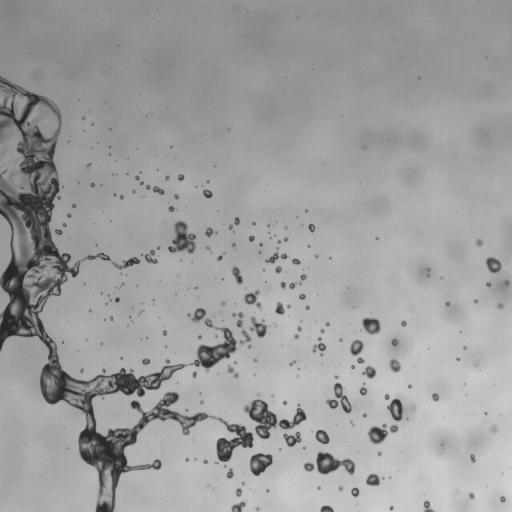droplet: (189, 312, 251, 372), (243, 398, 306, 439), (168, 220, 196, 253), (326, 382, 351, 413), (367, 423, 398, 444), (250, 453, 272, 475), (249, 316, 268, 337), (387, 398, 402, 421), (244, 290, 261, 309), (362, 317, 380, 334), (485, 257, 501, 273), (312, 337, 326, 355), (283, 432, 301, 446), (350, 339, 363, 356), (315, 429, 329, 444), (191, 308, 205, 322), (366, 473, 381, 486), (144, 249, 157, 263), (275, 302, 290, 314), (363, 365, 376, 378), (389, 358, 401, 372), (231, 500, 246, 511), (423, 500, 434, 511), (205, 227, 215, 237), (359, 383, 366, 395), (203, 189, 212, 198), (351, 487, 359, 497), (226, 468, 233, 478), (292, 258, 300, 265), (432, 393, 439, 401), (490, 425, 497, 433), (236, 488, 242, 497), (217, 253, 224, 260), (308, 224, 314, 232), (476, 238, 482, 246), (178, 174, 184, 181), (55, 229, 62, 235), (275, 266, 281, 273), (497, 302, 503, 309), (357, 357, 364, 363), (142, 358, 149, 364), (470, 454, 475, 462), (280, 282, 286, 288), (391, 339, 397, 345), (168, 206, 175, 211), (234, 217, 239, 224), (469, 492, 474, 499), (299, 294, 305, 299), (401, 320, 406, 326), (410, 403, 415, 409), (500, 496, 505, 502), (249, 236, 254, 241), (229, 224, 233, 230), (192, 371, 196, 377), (165, 175, 169, 180), (174, 194, 178, 199), (206, 246, 210, 251), (505, 280, 509, 285), (115, 297, 119, 302), (445, 301, 449, 306), (297, 326, 301, 331), (162, 330, 166, 335), (294, 334, 298, 339), (385, 394, 389, 399), (338, 486, 343, 490), (67, 213, 71, 217), (486, 282, 490, 286), (221, 301, 225, 305), (325, 322, 329, 326), (320, 329, 324, 333), (197, 335, 201, 339), (253, 358, 257, 362), (351, 365, 355, 369), (334, 375, 338, 379), (362, 413, 366, 417), (377, 451, 381, 455), (203, 459, 207, 463), (255, 507, 259, 511), (10, 173, 13, 177), (135, 176, 139, 179), (140, 181, 143, 185), (232, 243, 235, 247), (474, 299, 477, 303), (463, 345, 466, 349), (456, 357, 459, 361), (283, 401, 286, 405), (350, 421, 353, 425), (390, 506, 393, 510), (87, 164, 90, 167), (91, 183, 94, 186), (120, 195, 123, 198), (72, 204, 75, 207), (62, 223, 65, 226), (284, 238, 287, 241), (277, 240, 280, 243), (157, 246, 160, 249), (315, 254, 318, 257), (427, 268, 430, 271), (306, 306, 309, 309), (110, 317, 113, 320), (80, 369, 83, 372), (408, 385, 411, 388), (200, 400, 203, 403), (11, 233, 13, 237), (427, 273, 429, 277), (132, 190, 135, 192), (259, 243, 262, 245), (339, 339, 342, 341), (248, 345, 251, 347), (234, 361, 236, 364), (484, 412, 487, 414), (241, 482, 244, 484), (266, 489, 268, 492), (253, 222, 255, 224), (121, 283, 123, 285), (140, 311, 142, 313), (475, 364, 477, 366), (186, 458, 188, 460), (318, 487, 320, 489)
ligament: (0, 76, 253, 511), (303, 452, 355, 475), (112, 257, 139, 269), (288, 274, 306, 289), (265, 251, 287, 263), (231, 266, 243, 284), (146, 185, 164, 194), (227, 366, 238, 378), (320, 505, 333, 511), (289, 360, 295, 365)
